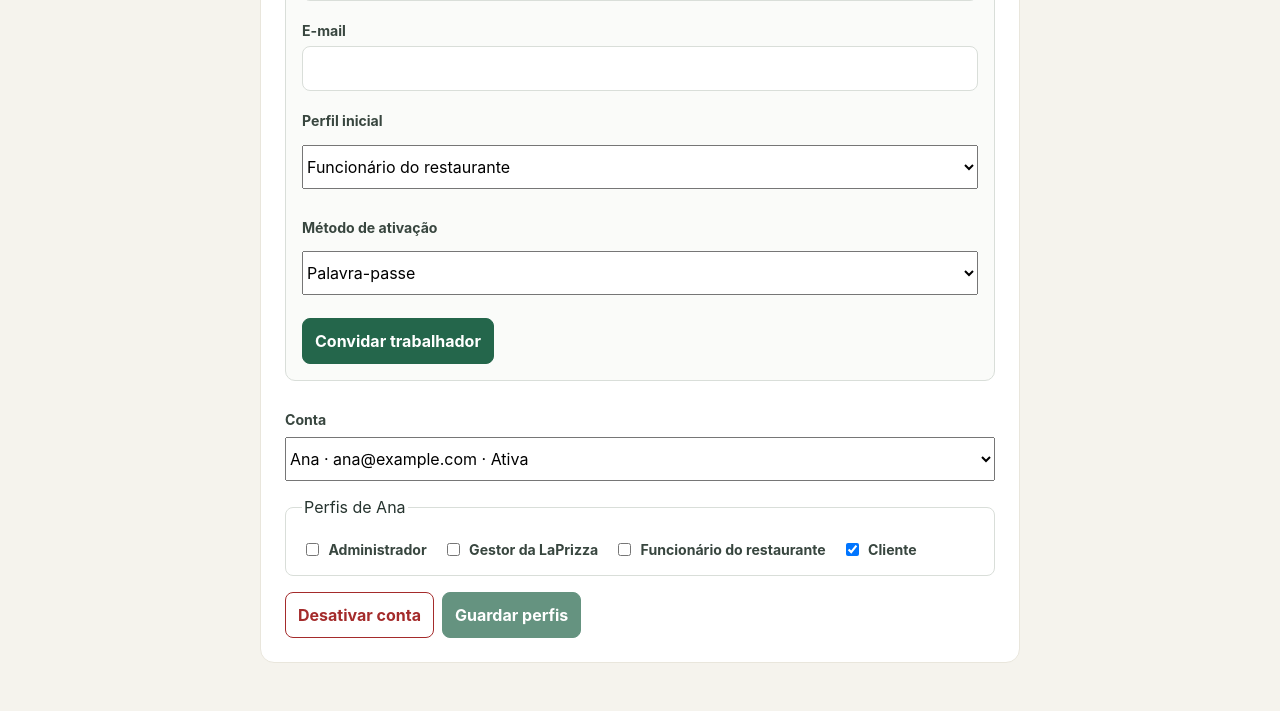
canceling a consequential action makes no API request
This screenshot has width=1280, height=711.
(page scrolled)
Click the button "Desativar conta".
click(360, 616)  # box [285, 592, 434, 638]
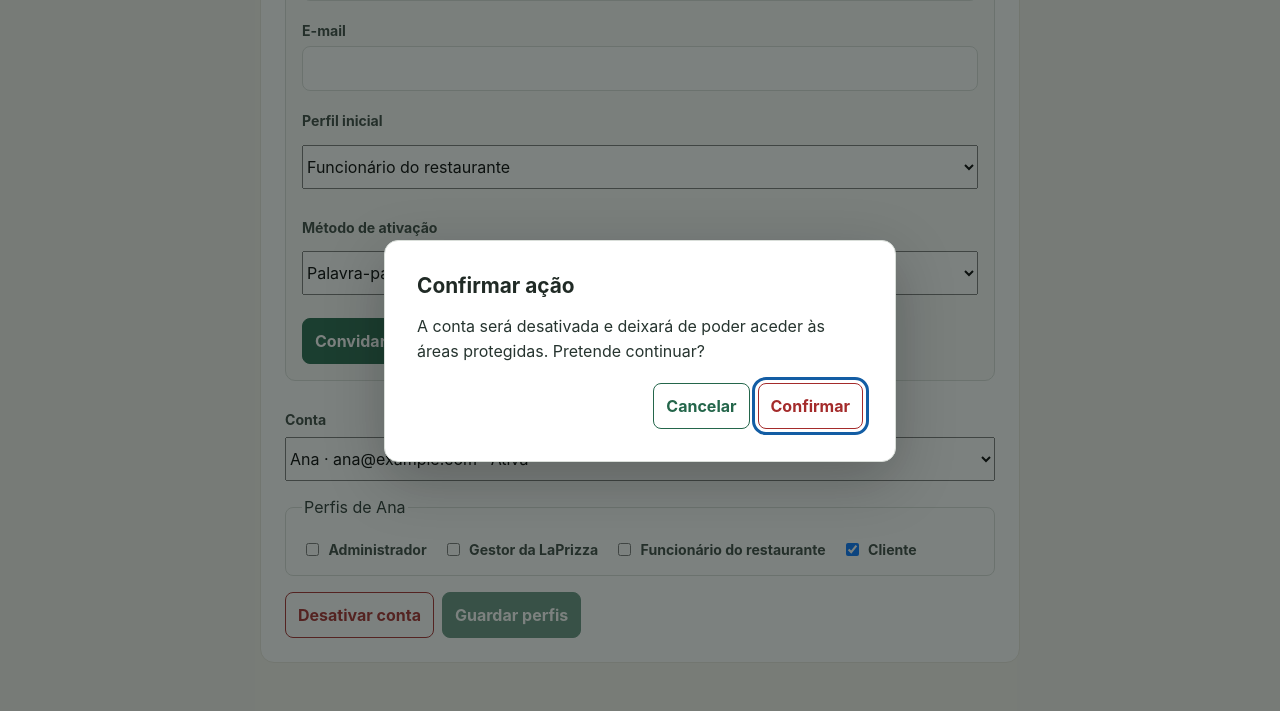
Expected: the dialog is shown, [384, 240, 896, 462]
Click the button "Cancelar".
click(701, 406)  # box [653, 383, 750, 429]
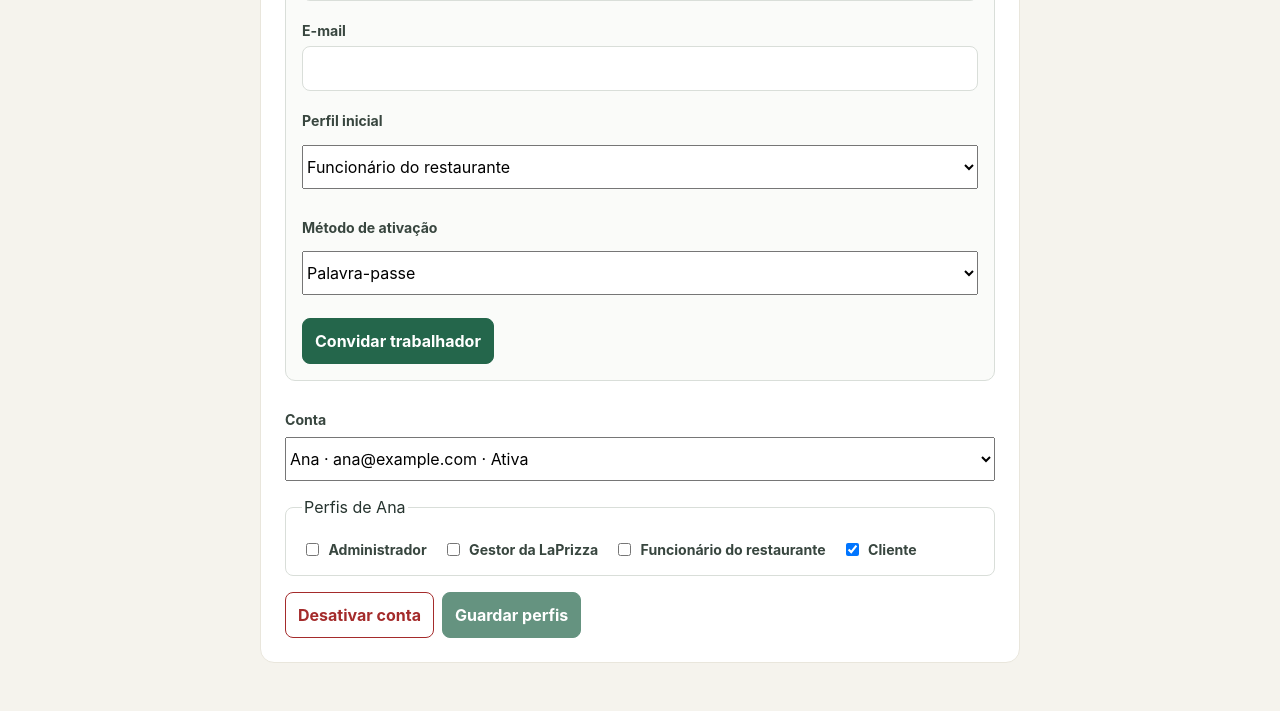
Expected: the dialog is gone
